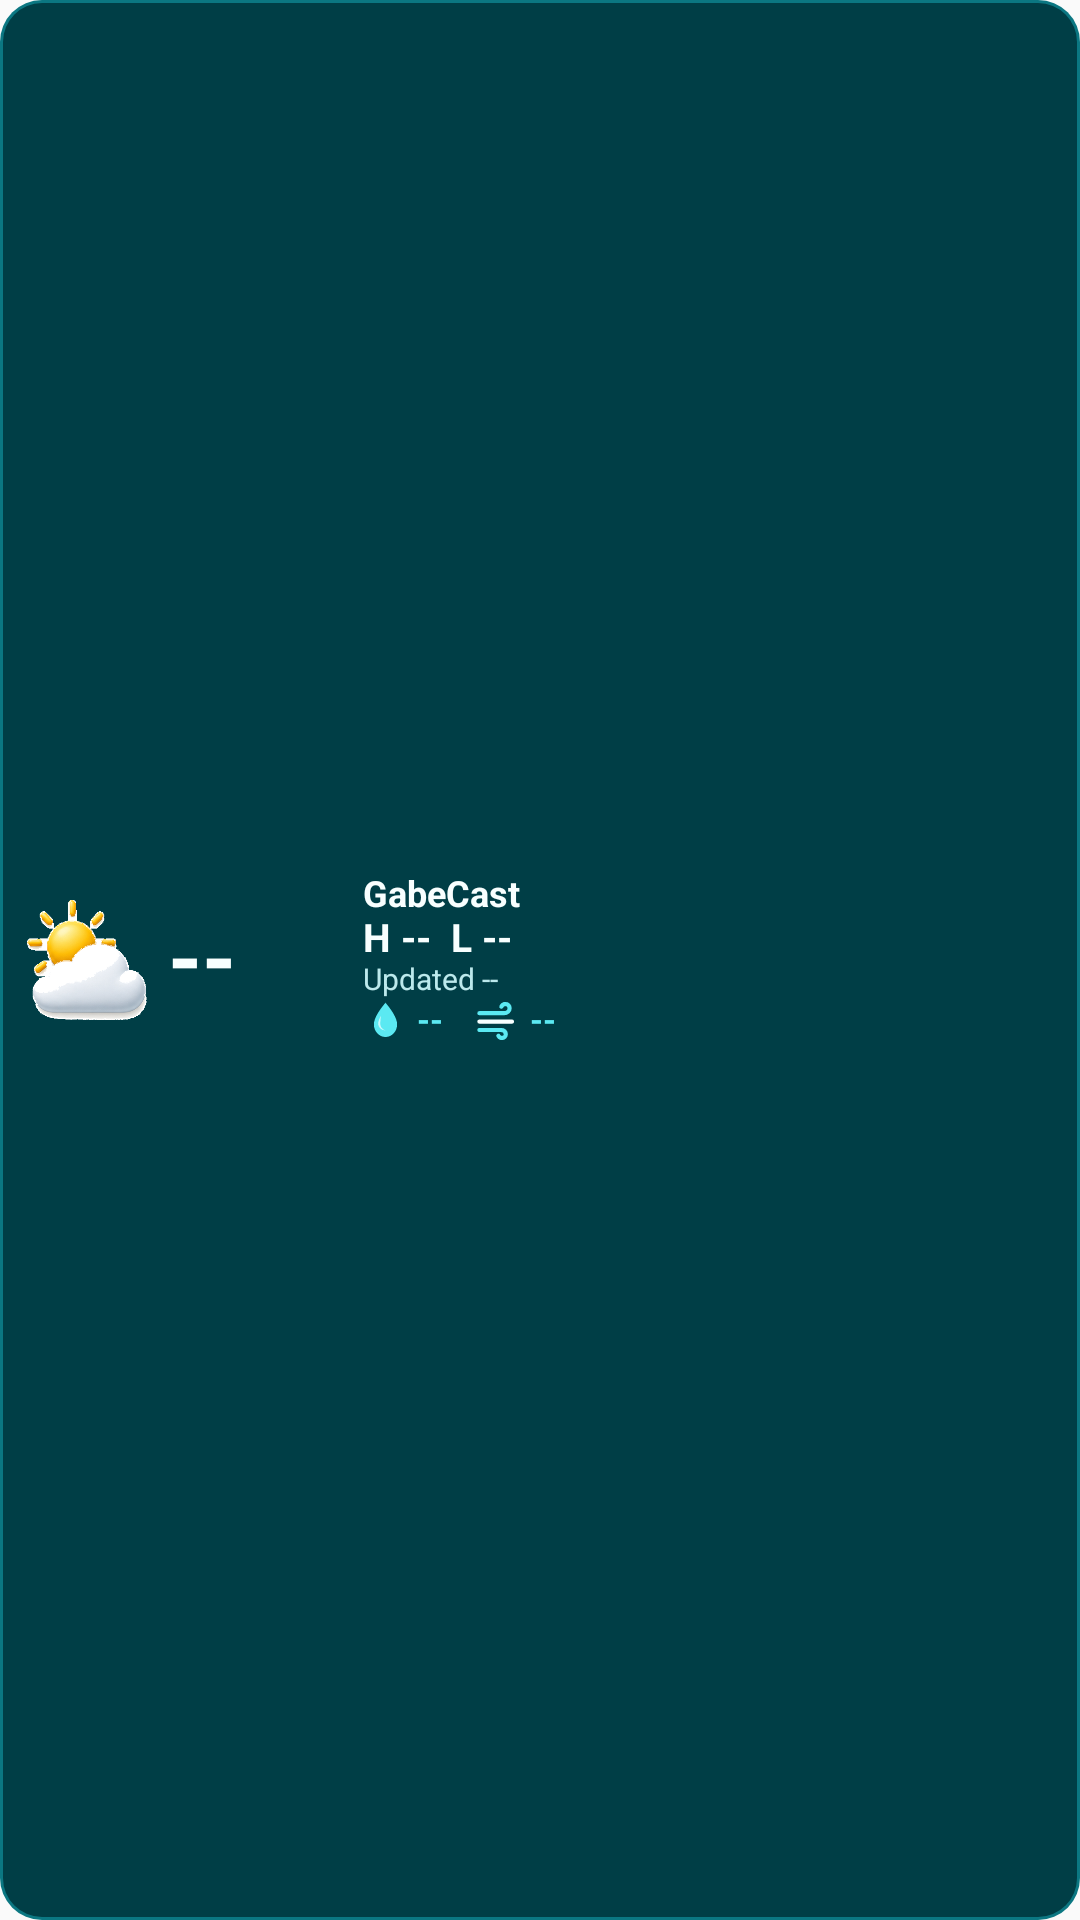

Where icons sit on this 1080px x 1920px app screen, as (left=x1, top=y1, right=x2, bottom=y2):
Precipitation: (left=374, top=1003, right=397, bottom=1037)
Weather: (left=27, top=900, right=147, bottom=1020)
Wind: (left=477, top=1002, right=514, bottom=1040)
